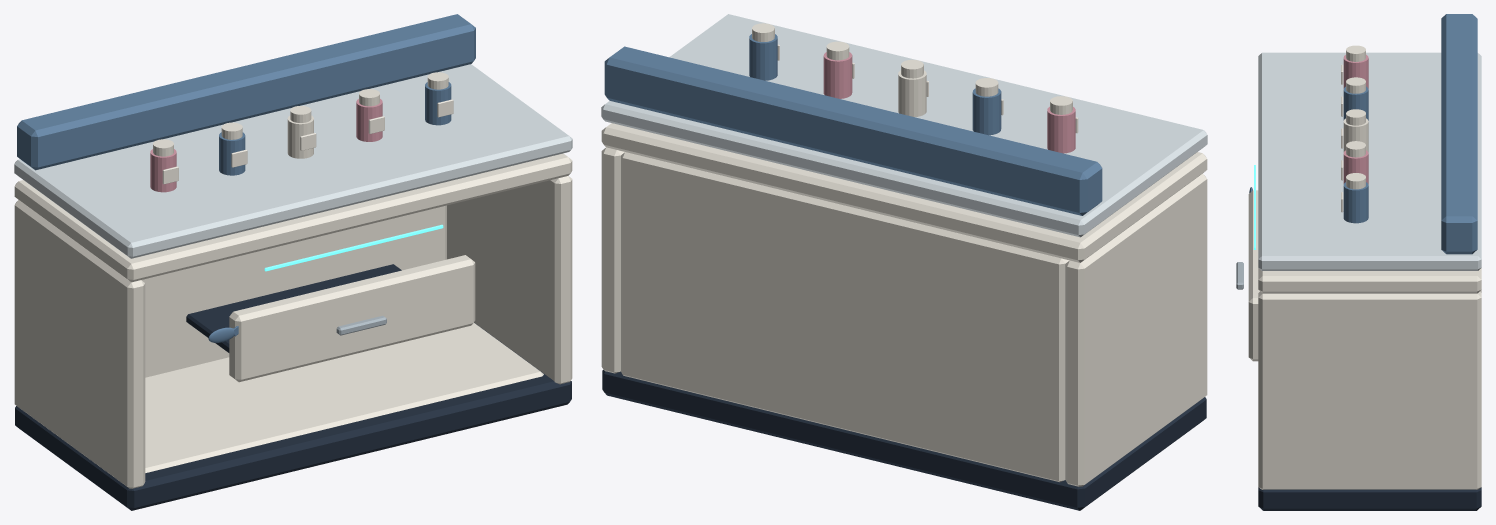
Rendered from mall_08.glb.
The picture shows the model from 3 angles, left to right: view 1: azimuth 30°, elevation 25°; view 2: azimuth 150°, elevation 25°; view 3: azimuth 270°, elevation 25°; orthographic projection. The views are drawn at different scales.
Parts seen in each view (by area): view 1: Side (×2), DrinkCounter, Bottom, BackBar, Base, DrawerFace, Back, Top, Bottle (×5), DrawerBase, StatusLight; view 2: Back, Side (×2), DrinkCounter, BackBar, Top, Base, Bottle (×5); view 3: Side, DrinkCounter, BackBar, Top, Base, Bottle (×5), DrawerFace, BottleCap (×5).
Part boxes in pixels (x1,y1,x2,y2): Side (×2): [14, 176, 572, 488]; DrinkCounter: [14, 64, 572, 258]; Bottom: [145, 323, 543, 472]; BackBar: [17, 14, 475, 170]; Base: [15, 322, 571, 510]; DrawerFace: [229, 255, 475, 382]; Back: [141, 205, 446, 377]; Top: [14, 153, 572, 282]; Bottle (×5): [150, 82, 451, 192]; DrawerBase: [186, 264, 401, 352]; StatusLight: [264, 224, 443, 271]; Back: [621, 152, 1069, 482]; Side (×2): [601, 147, 1207, 486]; DrinkCounter: [601, 14, 1207, 237]; BackBar: [604, 46, 1102, 215]; Top: [601, 123, 1207, 262]; Base: [602, 370, 1206, 510]; Bottle (×5): [749, 34, 1075, 153]; Side: [1258, 291, 1481, 489]; DrinkCounter: [1258, 52, 1481, 270]; BackBar: [1441, 14, 1477, 254]; Top: [1258, 268, 1481, 293]; Base: [1258, 487, 1481, 510]; Bottle (×5): [1343, 54, 1368, 223]; DrawerFace: [1248, 190, 1259, 361]; BottleCap (×5): [1346, 45, 1365, 189].
Bounding box in the file's own units: 1.75 × 1.17 × 0.879.
